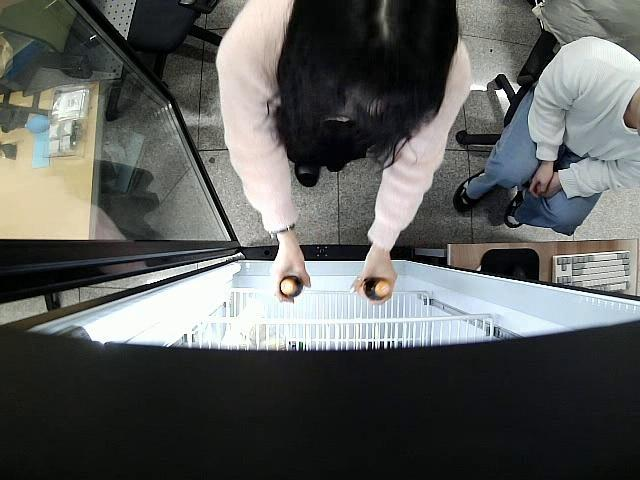17_vita500: (356, 278, 391, 302), (277, 274, 304, 301)
